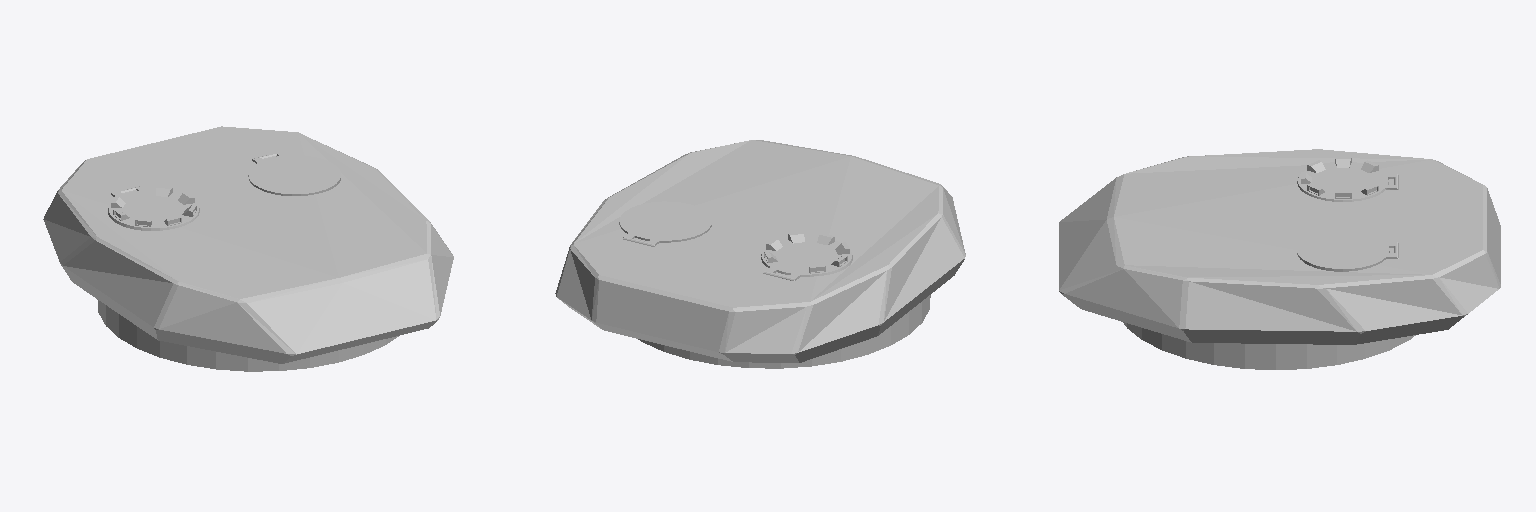
Rendered from lav III_Turret.obj.
3 views of the same model, side by side, from view 1: azimuth 30°, elevation 25°; view 2: azimuth 150°, elevation 25°; view 3: azimuth 270°, elevation 25° (orthographic).
Parts seen in each view (by area): view 1: chain_gun_turret_Cylinder.007; view 2: chain_gun_turret_Cylinder.007; view 3: chain_gun_turret_Cylinder.007.
Part boxes in pixels (bbox=[...]): chain_gun_turret_Cylinder.007: bbox=[43, 126, 453, 371]; chain_gun_turret_Cylinder.007: bbox=[555, 140, 965, 368]; chain_gun_turret_Cylinder.007: bbox=[1059, 149, 1500, 369].
Size of the model in its own units: 3.59 by 1.03 by 4.46.